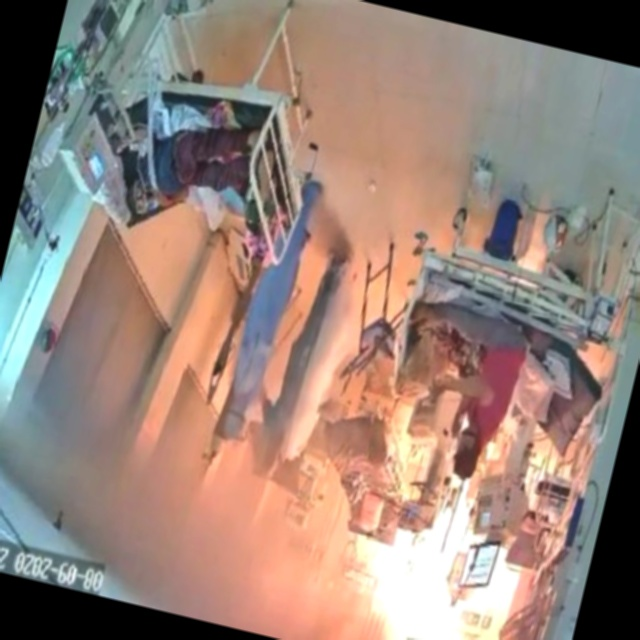fire: (301, 459, 549, 640)
